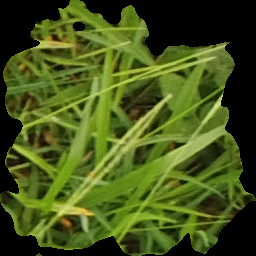grass: (1, 1, 255, 254)
